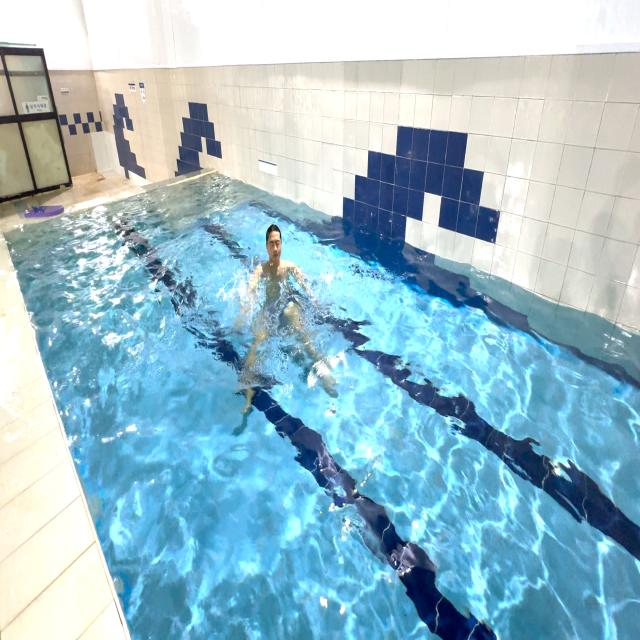Swimming: (229, 219, 329, 403)
